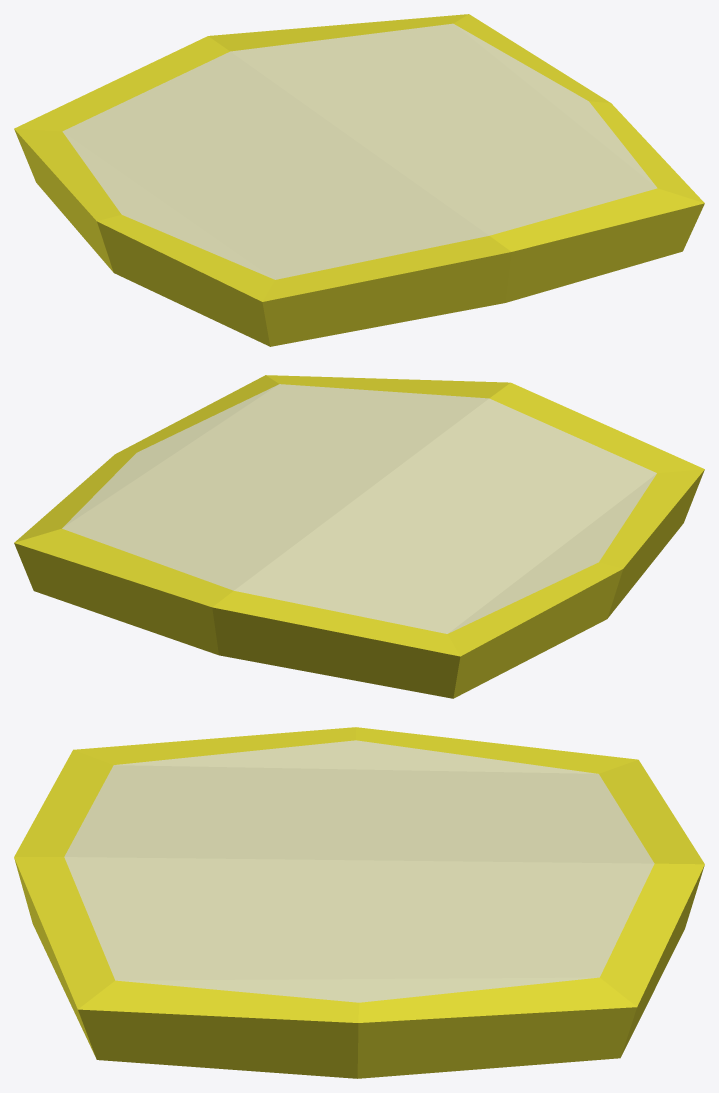
Rendered from lemonSlice.fbx.
The picture shows the model from 3 angles, top to bottom: view 1: azimuth 30°, elevation 25°; view 2: azimuth 150°, elevation 25°; view 3: azimuth 270°, elevation 25°; orthographic projection. The views are drawn at different scales.
Visible parts, largest first — view 1: lemonSlice; view 2: lemonSlice; view 3: lemonSlice.
Boxes of the visible parts, <box> form: lemonSlice: <box>14,14,704,346</box>; lemonSlice: <box>14,375,704,698</box>; lemonSlice: <box>14,727,704,1078</box>.
Size of the model in its own units: 5.79 by 0.8519 by 5.9.
1 material, 1 textured.
